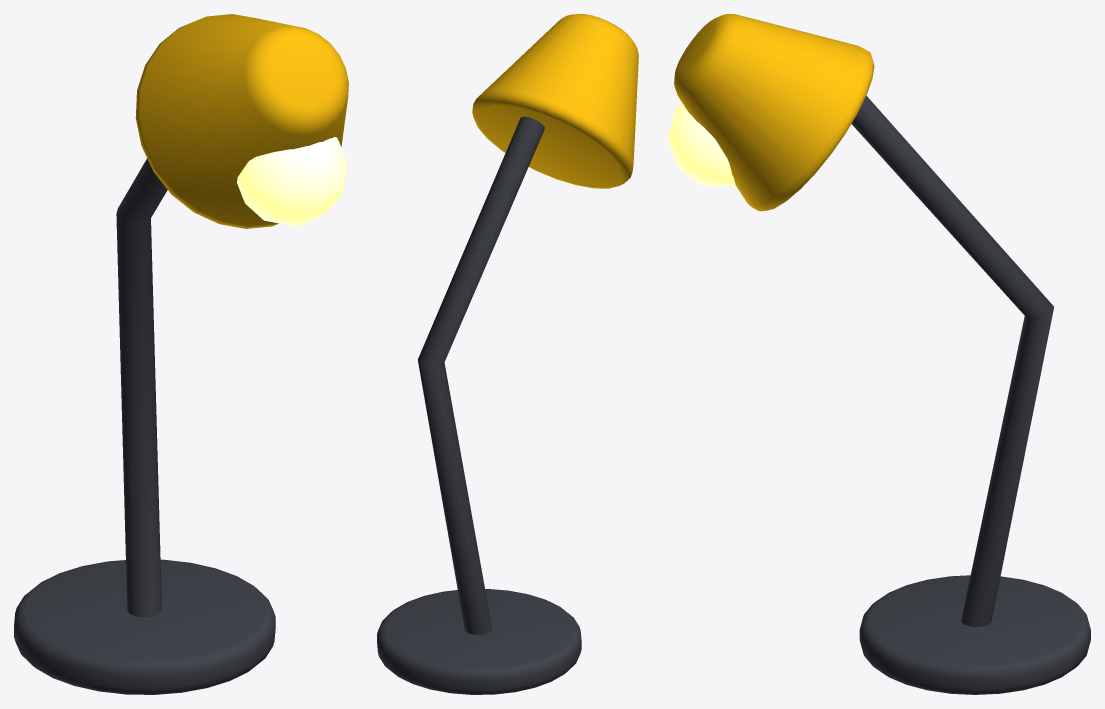
Rendered from luminaria_mesa.glb.
3 views of the same model, side by side, from view 1: azimuth 30°, elevation 25°; view 2: azimuth 150°, elevation 25°; view 3: azimuth 270°, elevation 25° (orthographic). The views are drawn at different scales.
Visible parts, largest first — view 1: Cone, Cylinder, tubo, luminaria_mesa_lampada; view 2: Cone, Cylinder, tubo; view 3: Cone, Cylinder, tubo, luminaria_mesa_lampada.
Part boxes in pixels (x1,y1,x2,y2): Cone: [135, 14, 348, 228]; Cylinder: [14, 559, 275, 694]; tubo: [116, 158, 167, 617]; luminaria_mesa_lampada: [237, 137, 347, 226]; Cone: [472, 14, 638, 188]; Cylinder: [377, 589, 581, 694]; tubo: [417, 116, 544, 634]; Cone: [674, 14, 874, 211]; Cylinder: [859, 575, 1090, 694]; tubo: [851, 96, 1053, 626]; luminaria_mesa_lampada: [667, 103, 735, 186].
Bounding box in the file's own units: 0.18 × 0.5416 × 0.33.
